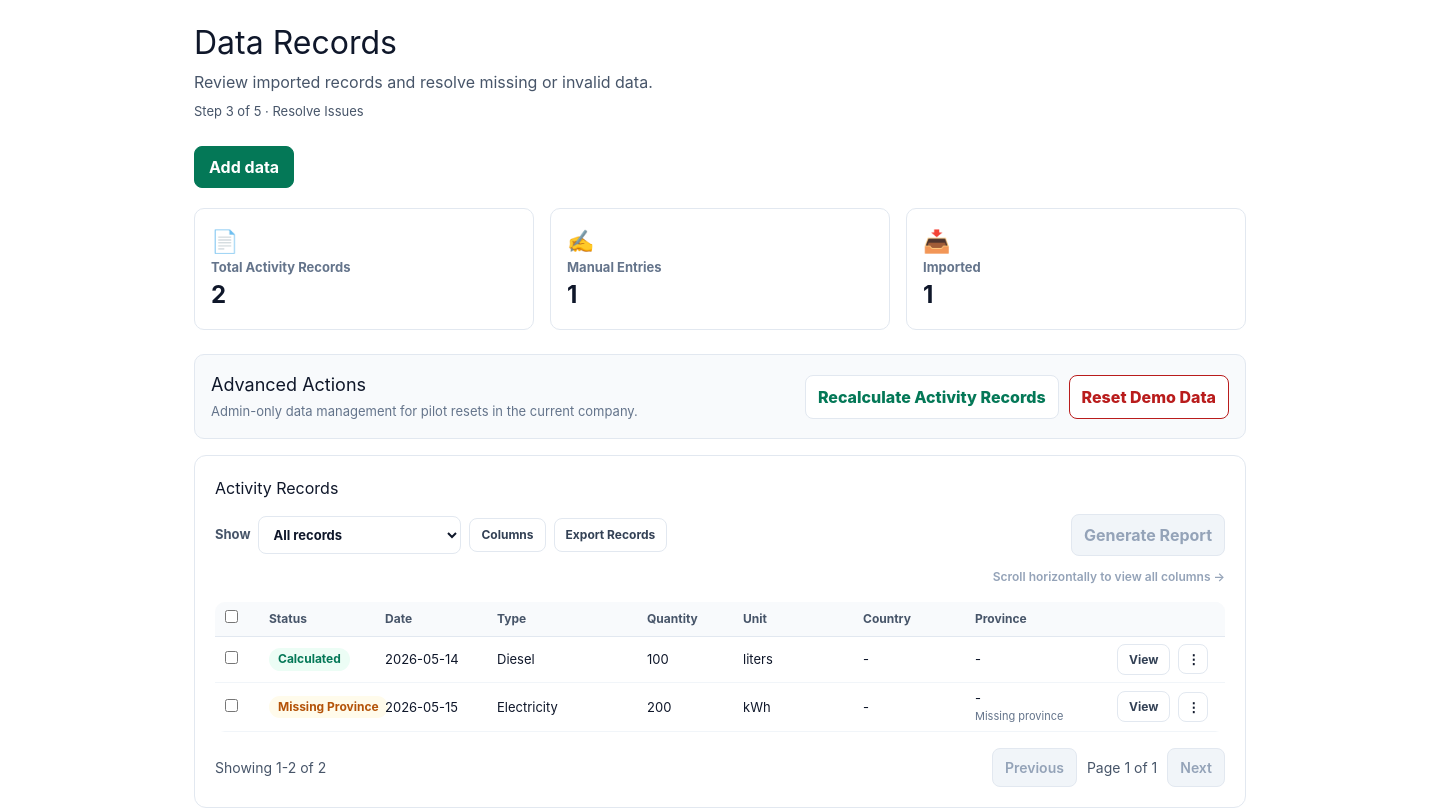
ActivityDataPage delete flows › requires admins to type RESET DEMO DATA before confirming demo data reset
Expected: the text "Diesel" is shown, [487,636,637,682]
Click the button "Reset Demo Data".
click(1149, 397)  # box [1069,375,1229,419]
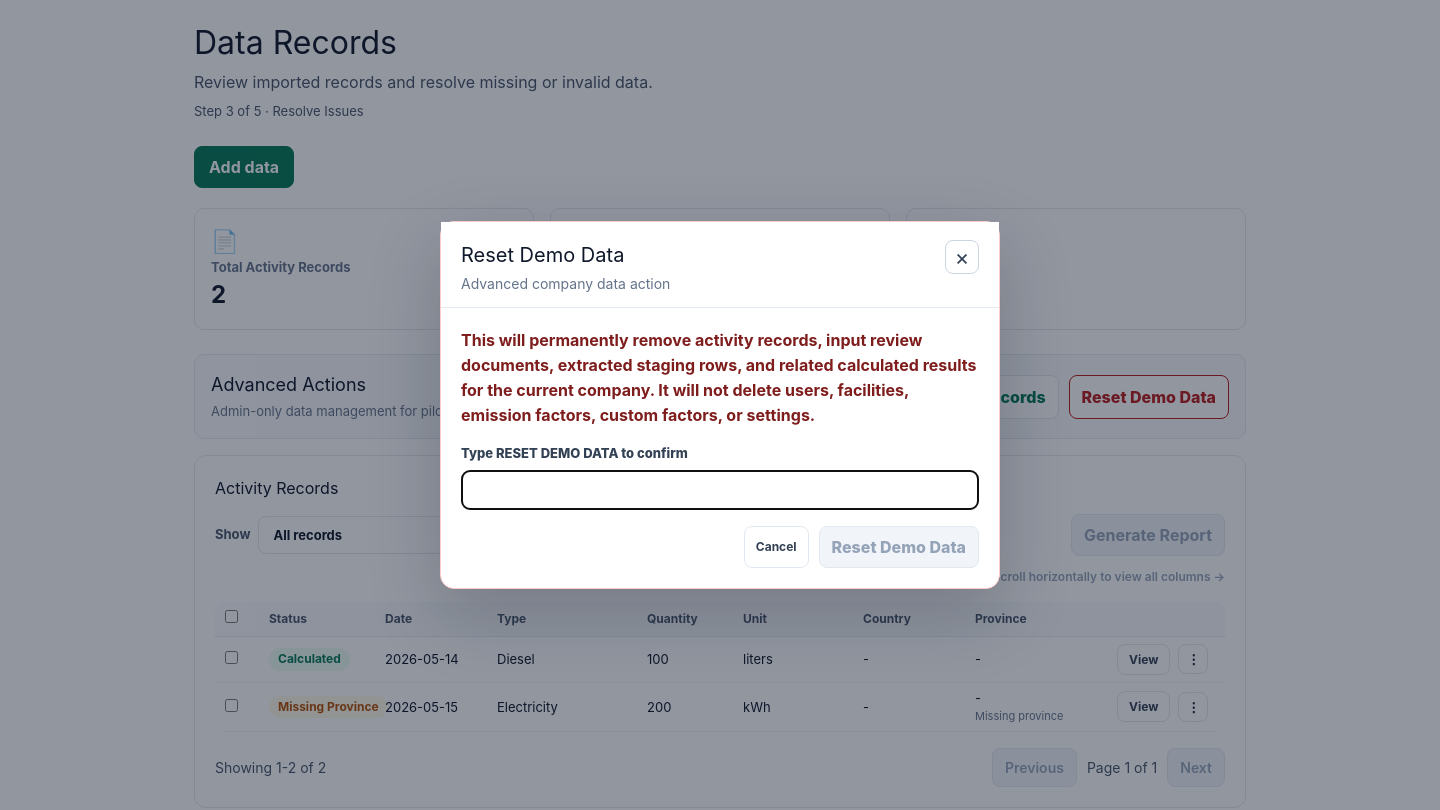
Expected: the text "This will permanently remove activity records, input review documents, extracted staging rows, and related calculated re" is shown, [461,330,976,425]
Expected: the button "Reset Demo Data" is disabled, [819,526,979,568]
Type "RESET" into the field labelled "Type RESET DEMO DATA to confirm".
click(720, 490); type("RESET")  # box [461,470,979,510]
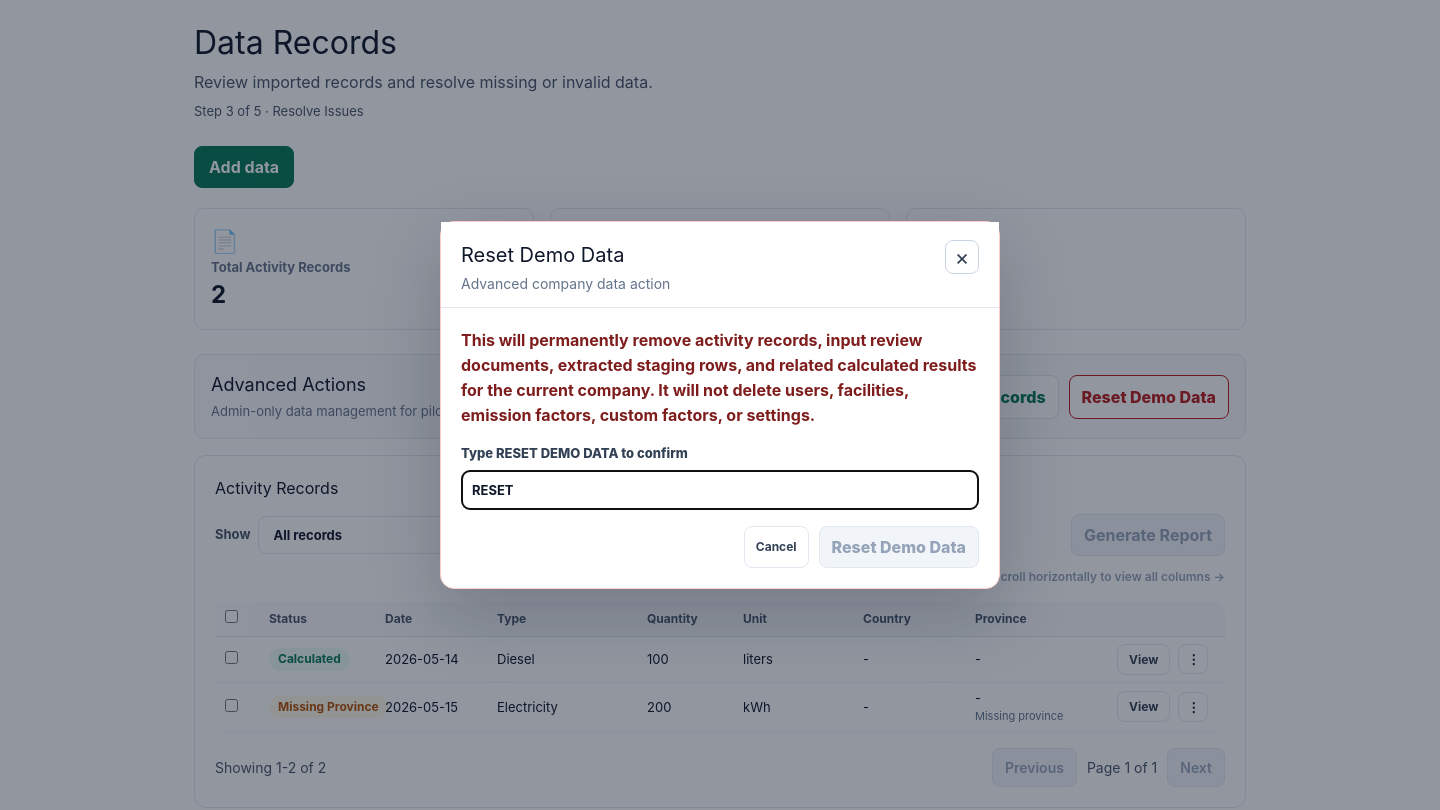
Expected: the button "Reset Demo Data" is disabled, [819,526,979,568]
Type " DEMO DATA" into the field labelled "Type RESET DEMO DATA to confirm".
click(720, 490); type(" DEMO DATA")  # box [461,470,979,510]
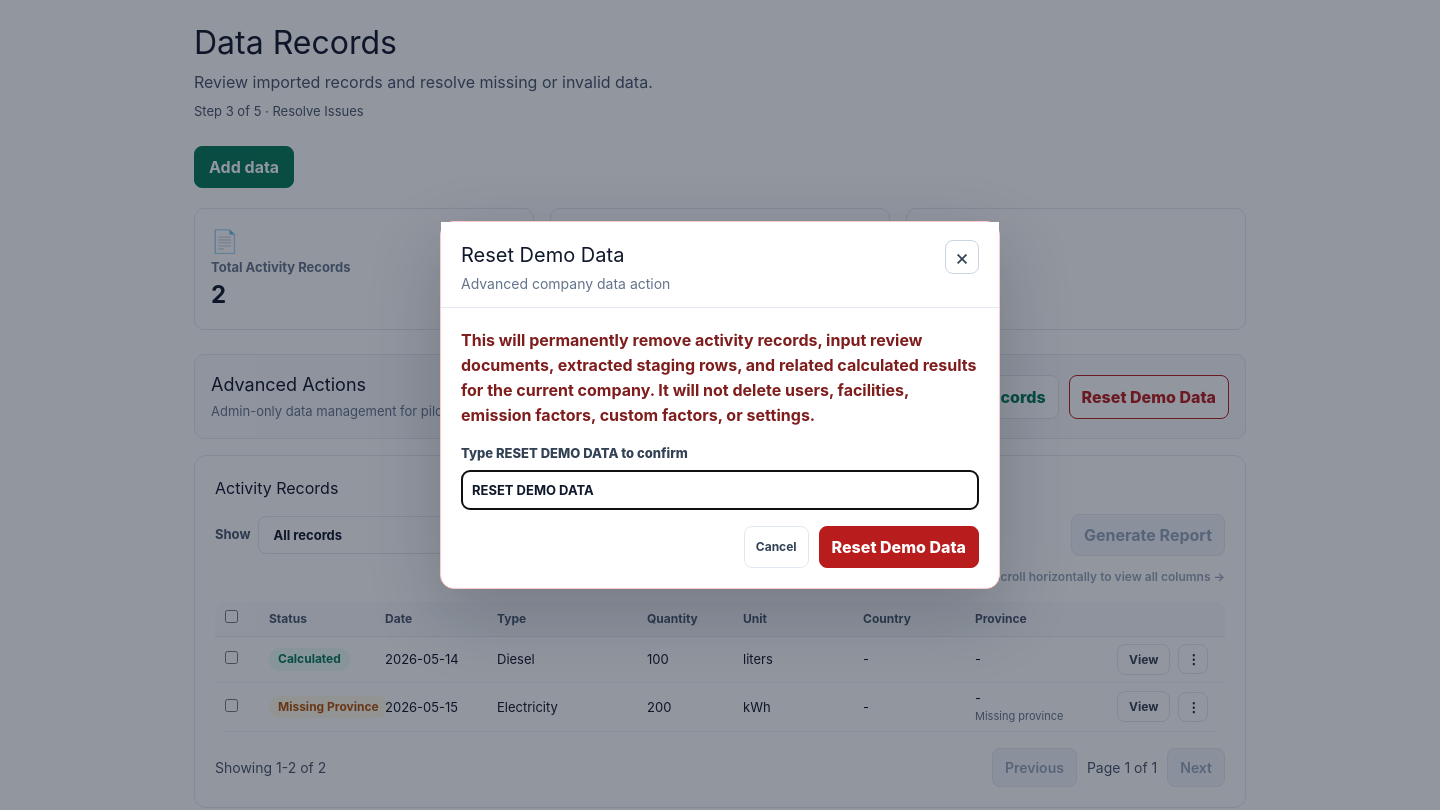
Expected: the button "Reset Demo Data" is enabled
Click the button "Reset Demo Data".
click(899, 547)  # box [819,526,979,568]
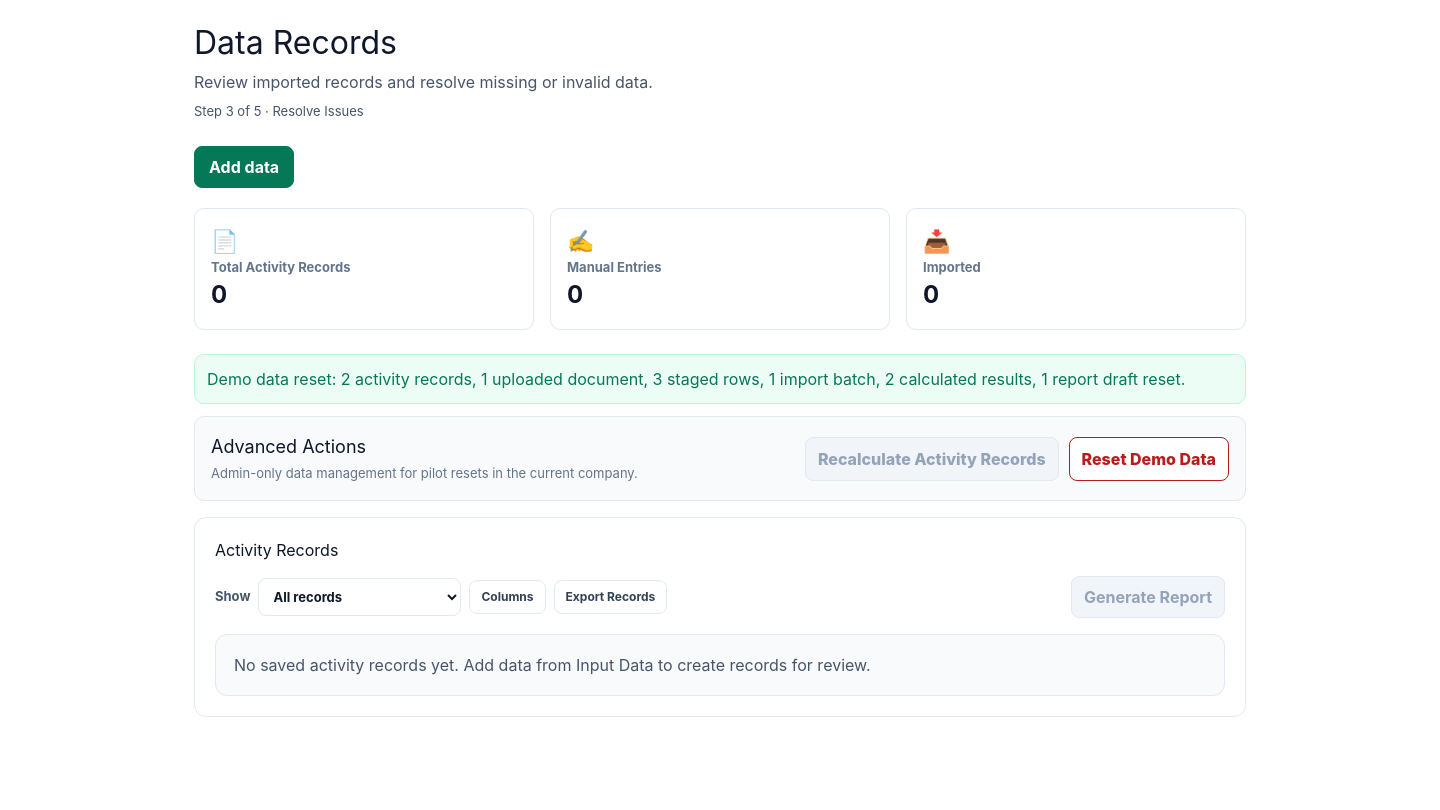
Expected: the text "Demo data reset:" is shown, [207,369,1185,389]
Expected: the text "No saved activity records yet. Add data from Input Data to create records for review." is shown, [234,655,871,675]
